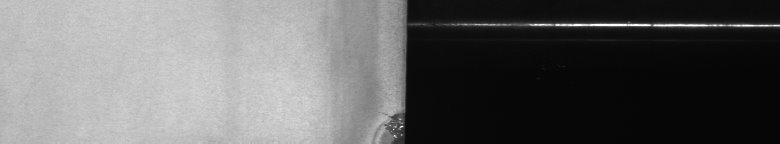hb: (368, 109, 392, 136)
